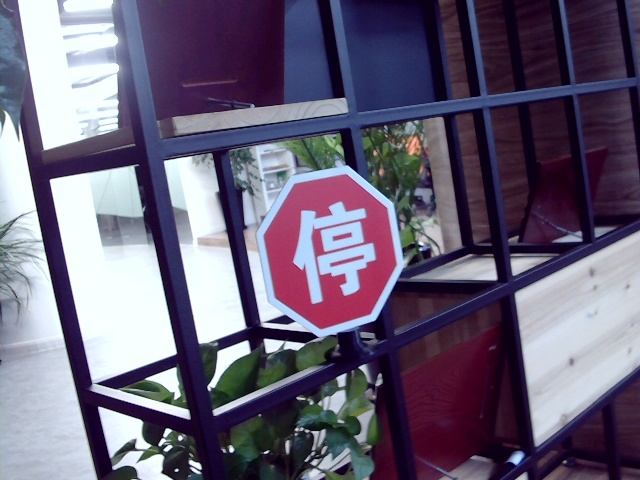stop: (293, 199, 376, 302)
